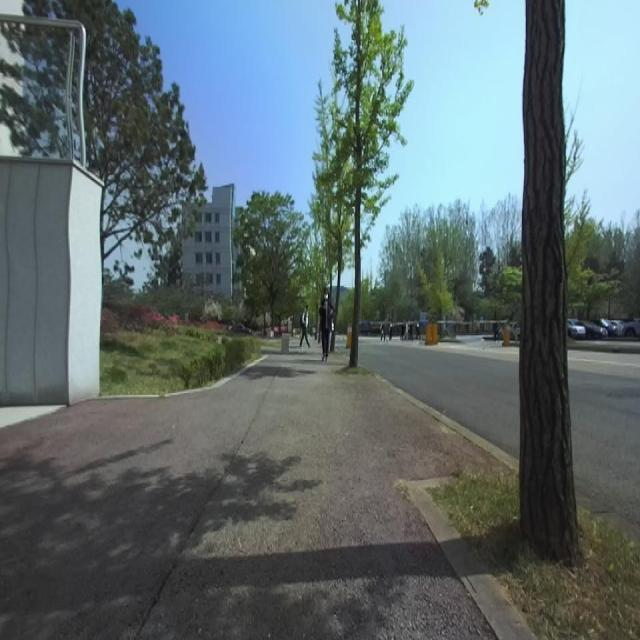sidewalk: (0, 347, 504, 640)
